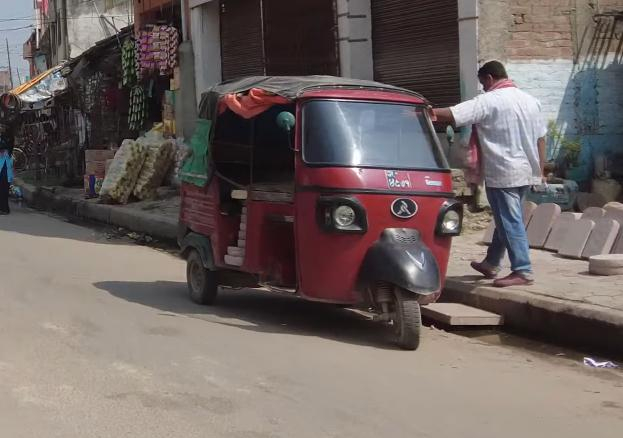auto_rickshaw: (171, 69, 466, 363)
